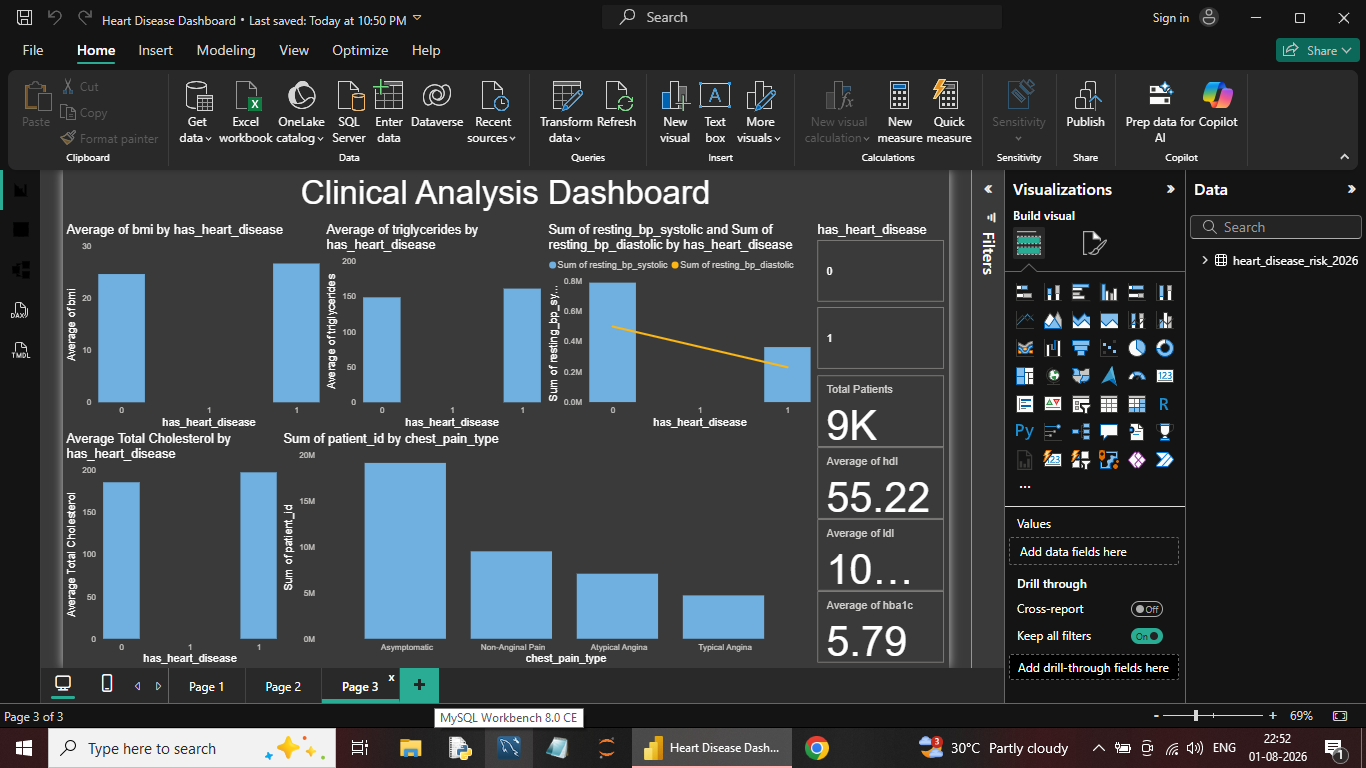

What the dashboard file says about the page in this screenshot:
{"tool":"powerbi","page":{"name":"Page 3","canvas":[1280,720],"ordinal":2},"visuals":[{"type":"textbox","box":[0,0,1280,75],"z":0},{"type":"lineStackedColumnComboChart","fields":{"Category":["heart_disease_risk_2026.chest_pain_type"],"Y":["Sum(heart_disease_risk_2026.patient_id)"]},"box":[314.4,377.6,771.4,342.4],"z":1000},{"type":"lineClusteredColumnComboChart","fields":{"Category":["heart_disease_risk_2026.has_heart_disease"],"Y":["Sum(heart_disease_risk_2026.resting_bp_systolic)"],"Y2":["Sum(heart_disease_risk_2026.resting_bp_diastolic)"]},"box":[696.5,74.9,389.4,302.7],"z":2000},{"type":"columnChart","fields":{"Category":["heart_disease_risk_2026.has_heart_disease"],"Y":["Avg(heart_disease_risk_2026.triglycerides)"]},"box":[376.2,74.9,320.3,302.7],"z":3000},{"type":"cardVisual","fields":{"Data":["heart_disease_risk_2026.Total Patients","Avg(heart_disease_risk_2026.hdl)","Avg(heart_disease_risk_2026.ldl)","Avg(heart_disease_risk_2026.hba1c)"]},"box":[1085.9,292.4,194,427.6],"z":4000},{"type":"clusteredColumnChart","fields":{"Category":["heart_disease_risk_2026.has_heart_disease"],"Y":["heart_disease_risk_2026.Average Total Cholesterol"]},"box":[0,377.6,314.4,342.4],"z":5000},{"type":"clusteredColumnChart","fields":{"Category":["heart_disease_risk_2026.has_heart_disease"],"Y":["Avg(heart_disease_risk_2026.bmi)"]},"box":[0,74.9,376.2,302.7],"z":6000},{"type":"advancedSlicerVisual","fields":{"Values":["heart_disease_risk_2026.has_heart_disease"]},"box":[1085.9,74.9,194,217.5],"z":7000}]}

Visuals, with their boxes on the page's 1280x720 design canvas (x1, y1, x2, y2). These are canvas units, not pixel positions in the 1366x768 screenshot, which may show the page scaled, cropped or inside an application window:
textbox: (x1=0, y1=0, x2=1280, y2=75)
lineStackedColumnComboChart - heart_disease_risk_2026.chest_pain_type x Sum(heart_disease_risk_2026.patient_id): (x1=314, y1=378, x2=1086, y2=720)
lineClusteredColumnComboChart - heart_disease_risk_2026.has_heart_disease x Sum(heart_disease_risk_2026.resting_bp_systolic): (x1=696, y1=75, x2=1086, y2=378)
columnChart - heart_disease_risk_2026.has_heart_disease x Avg(heart_disease_risk_2026.triglycerides): (x1=376, y1=75, x2=696, y2=378)
cardVisual - heart_disease_risk_2026.Total Patients x Avg(heart_disease_risk_2026.hdl): (x1=1086, y1=292, x2=1280, y2=720)
clusteredColumnChart - heart_disease_risk_2026.has_heart_disease x heart_disease_risk_2026.Average Total Cholesterol: (x1=0, y1=378, x2=314, y2=720)
clusteredColumnChart - heart_disease_risk_2026.has_heart_disease x Avg(heart_disease_risk_2026.bmi): (x1=0, y1=75, x2=376, y2=378)
advancedSlicerVisual - heart_disease_risk_2026.has_heart_disease: (x1=1086, y1=75, x2=1280, y2=292)
